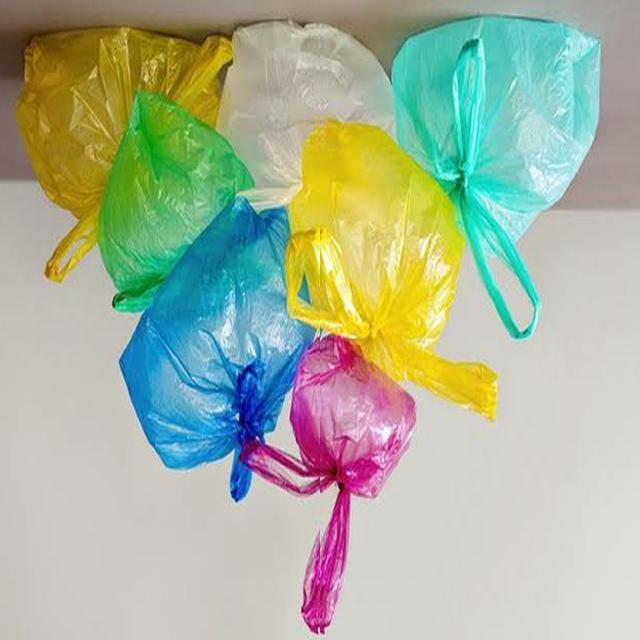Single-layer Plastic: (392, 16, 601, 338), (286, 121, 496, 418), (120, 196, 315, 499), (16, 28, 232, 281), (240, 335, 416, 633), (99, 90, 254, 312), (218, 21, 392, 188)
